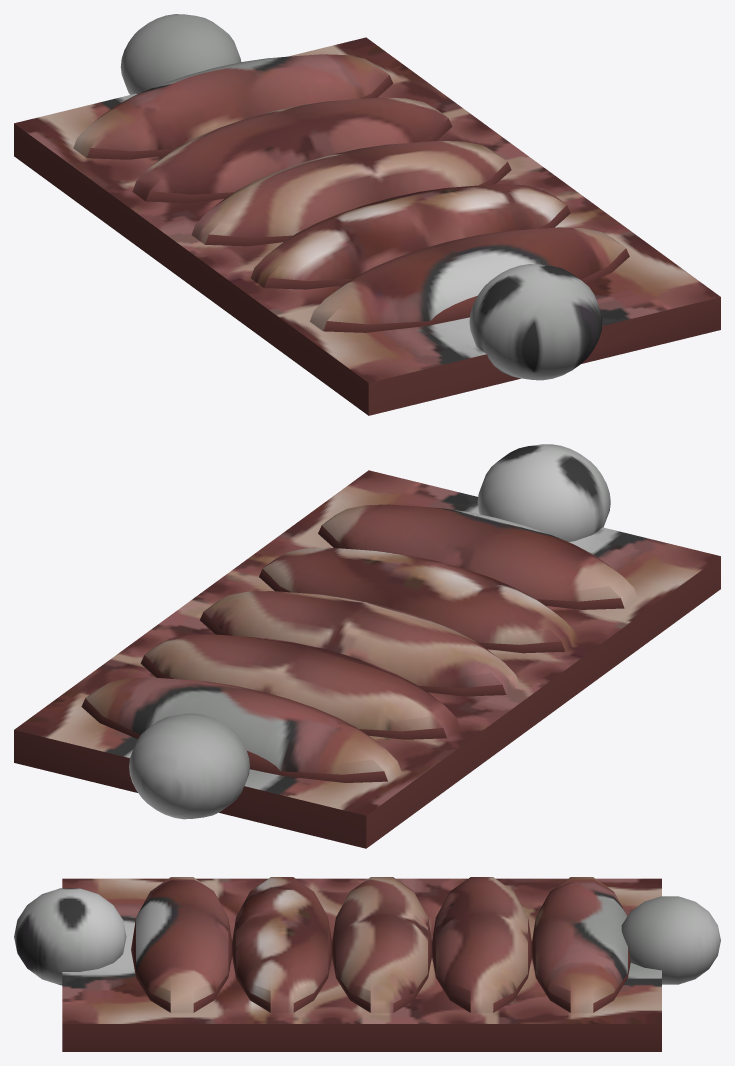
Rendered from Building_CannibalPlatter.obj.
3 views of the same model, one above another, from view 1: azimuth 30°, elevation 25°; view 2: azimuth 150°, elevation 25°; view 3: azimuth 270°, elevation 25° (orthographic). The views are drawn at different scales.
Parts seen in each view (by area): view 1: Body; view 2: Body; view 3: Body.
Boxes of the visible parts, left/top/right/bottom form: Body: left=14, top=14, right=720, bottom=415; Body: left=14, top=444, right=720, bottom=848; Body: left=14, top=877, right=720, bottom=1051.
Size of the model in its own units: 1.34 by 0.3961 by 2.76.
1 material, 1 textured.
